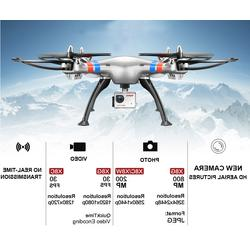drone: (10, 44, 241, 126)
